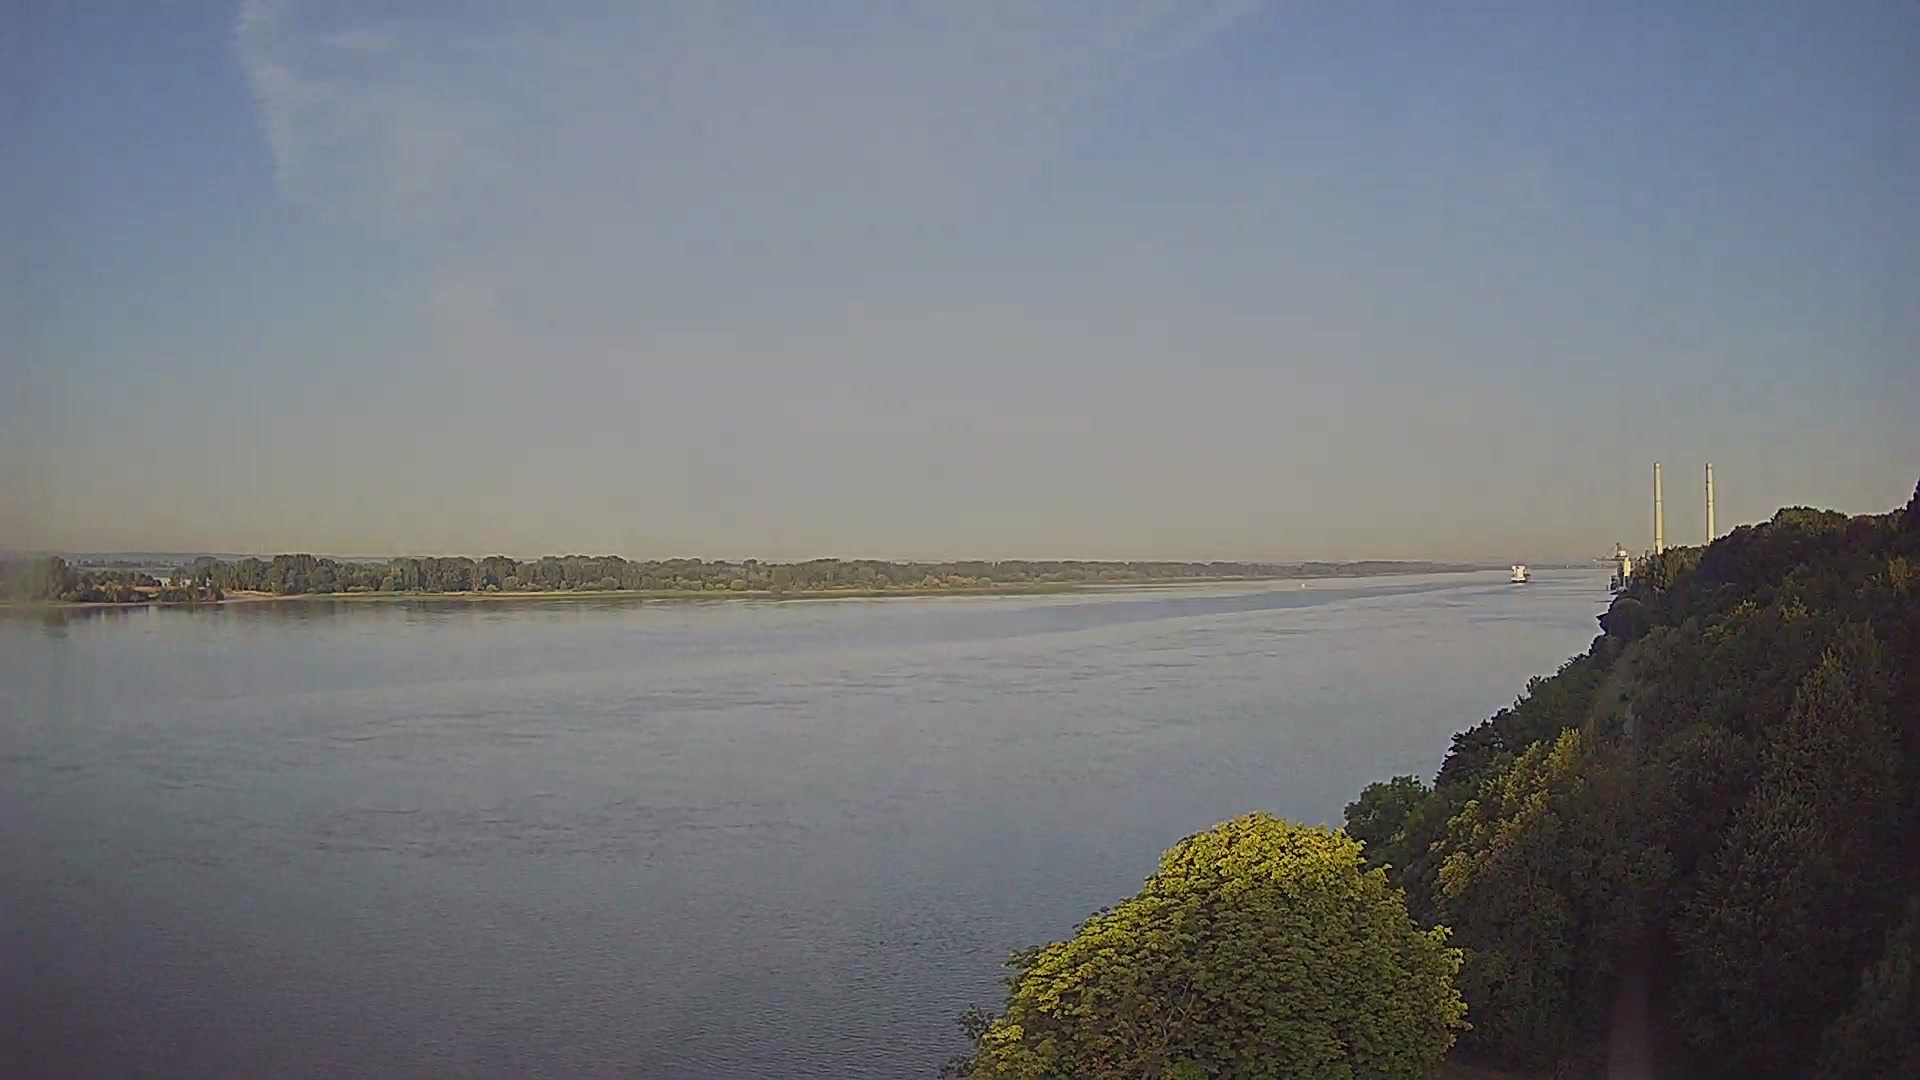sea: (1509, 560, 1532, 583)
